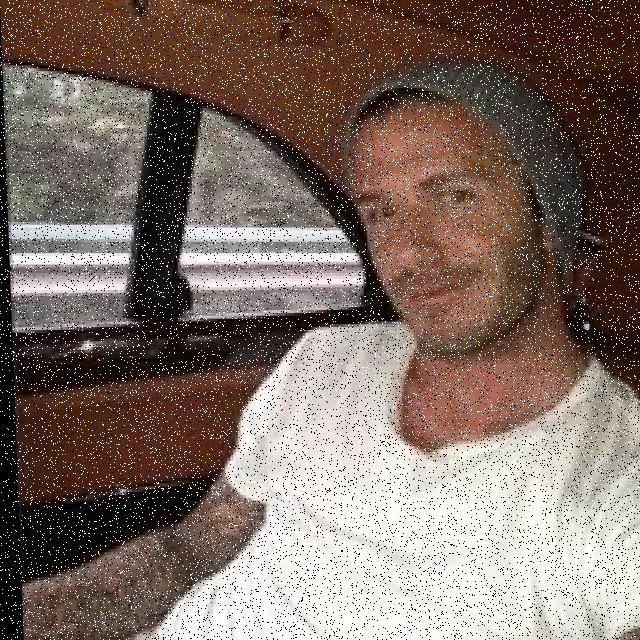noSeatbelt: (173, 273, 640, 640)
